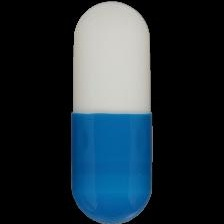59746-382: (0, 0, 224, 224)
